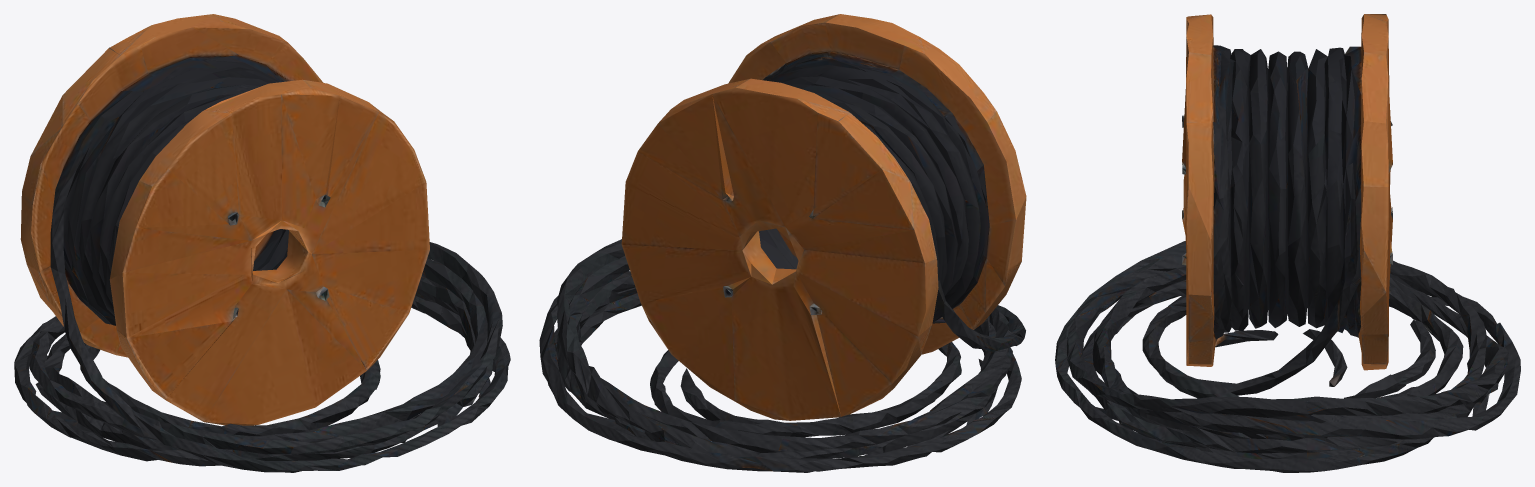
File: cable_spool.glb
3 renders of one model, left to right at view 1: azimuth 30°, elevation 25°; view 2: azimuth 150°, elevation 25°; view 3: azimuth 270°, elevation 25°, orthographic. The views are drawn at different scales.
Visible parts, largest first — view 1: Mesh_0; view 2: Mesh_0; view 3: Mesh_0.
Part boxes in pixels (x1,y1,x2,y2): Mesh_0: [14, 14, 510, 472]; Mesh_0: [539, 14, 1026, 472]; Mesh_0: [1055, 14, 1520, 472].
Bounding box in the file's own units: 1.9 × 1.41 × 1.83.
1 material, 1 textured.
